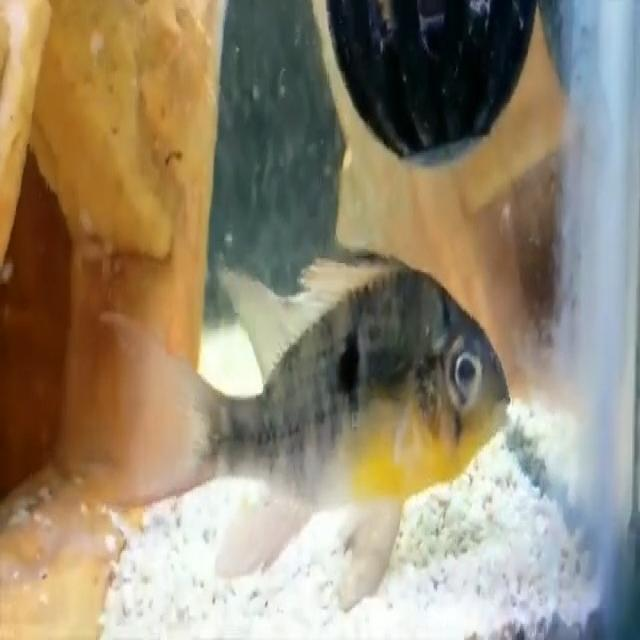fish: (95, 242, 514, 615)
